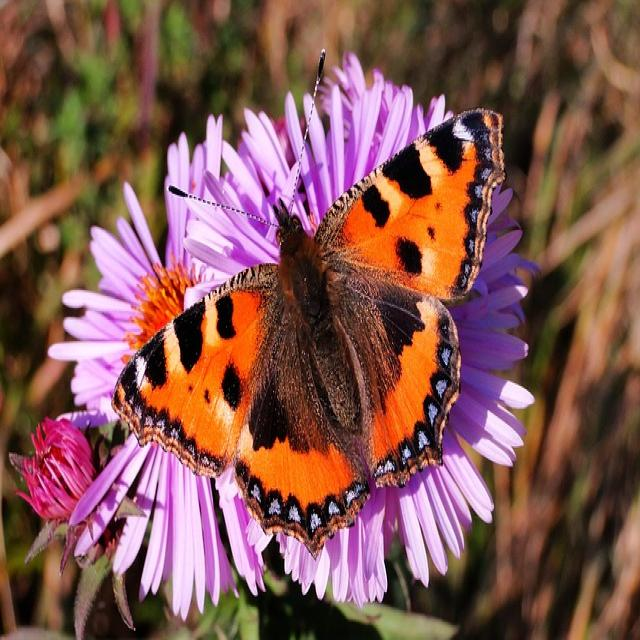butterfly: (112, 111, 505, 557)
